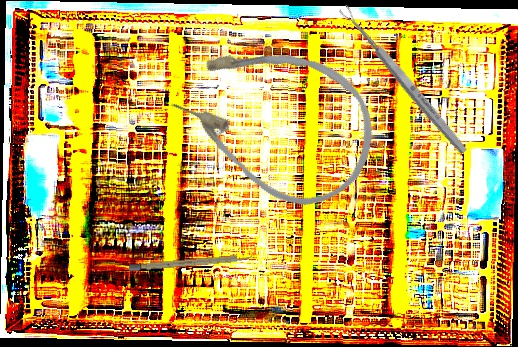Cannula: (153, 11, 397, 227)
Scalpel Handle: (128, 253, 253, 272)
Surgical Spoon: (337, 2, 470, 157)
